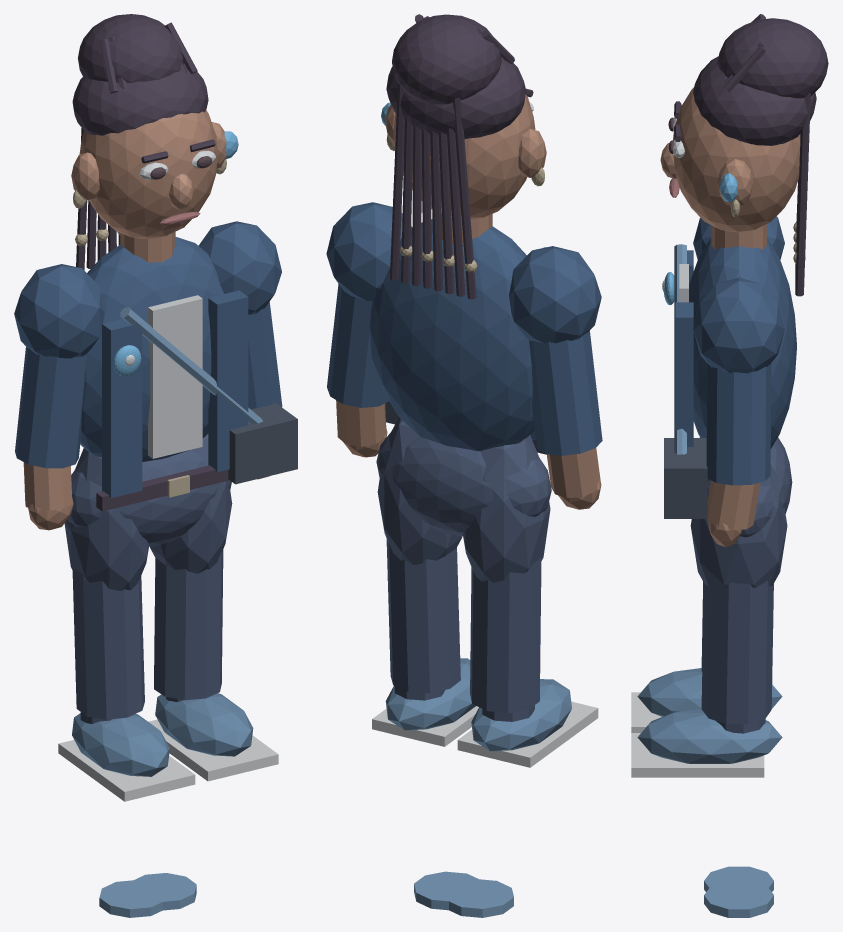
File: navi_interaction_test.glb
The picture shows the model from 3 angles, left to right: view 1: azimuth 30°, elevation 25°; view 2: azimuth 150°, elevation 25°; view 3: azimuth 270°, elevation 25°; orthographic projection. The views are drawn at different scales.
Visible parts, largest first — view 1: head, chest, l_leg, r_leg, shirt_mid, left_sleeve, left_shoulder_cap, jacket_left, haircap, jacket_right, hips, l_thigh (+19 smaller); view 2: chest, l_leg, r_leg, hips, braided_bun, left_sleeve, left_shoulder_cap, l_thigh, right_shoulder_cap, haircap, head, right_sleeve (+18 smaller); view 3: r_leg, head, chest, right_sleeve, right_shoulder_cap, braided_bun, haircap, r_thigh, r_shoe, crossbag, r_sole, jacket_right (+14 smaller).
Boxes of the visible parts, x1,y1,x2,y2 form: head: (79, 110, 218, 238); chest: (80, 237, 223, 461); l_leg: (72, 568, 144, 719); r_leg: (154, 550, 223, 700); shirt_mid: (148, 295, 202, 458); left_sleeve: (15, 347, 86, 468); left_shoulder_cap: (14, 264, 104, 358); jacket_left: (102, 319, 142, 498); haircap: (72, 64, 208, 135); jacket_right: (208, 290, 248, 472); hips: (68, 449, 231, 546); l_thigh: (64, 448, 149, 590); chest: (369, 219, 534, 451); l_leg: (470, 557, 541, 713); r_leg: (386, 539, 460, 693); hips: (376, 432, 551, 536); braided_bun: (392, 14, 501, 104); left_sleeve: (529, 330, 602, 455); left_shoulder_cap: (509, 246, 601, 343); l_thigh: (463, 435, 550, 582); right_shoulder_cap: (326, 202, 412, 301); haircap: (386, 57, 526, 138); head: (393, 94, 535, 218); right_sleeve: (327, 284, 389, 407); r_leg: (701, 580, 773, 724); head: (673, 87, 800, 232); chest: (689, 238, 796, 448); right_sleeve: (706, 363, 771, 485); right_shoulder_cap: (693, 277, 784, 373); braided_bun: (717, 18, 828, 98); haircap: (693, 56, 816, 145); r_thigh: (690, 464, 787, 587); r_shoe: (637, 709, 782, 763); crossbag: (664, 438, 707, 518); r_sole: (631, 733, 764, 777); jacket_right: (675, 302, 693, 446).
Bounding box in the file's own units: 1.25 × 3.98 × 0.815.
